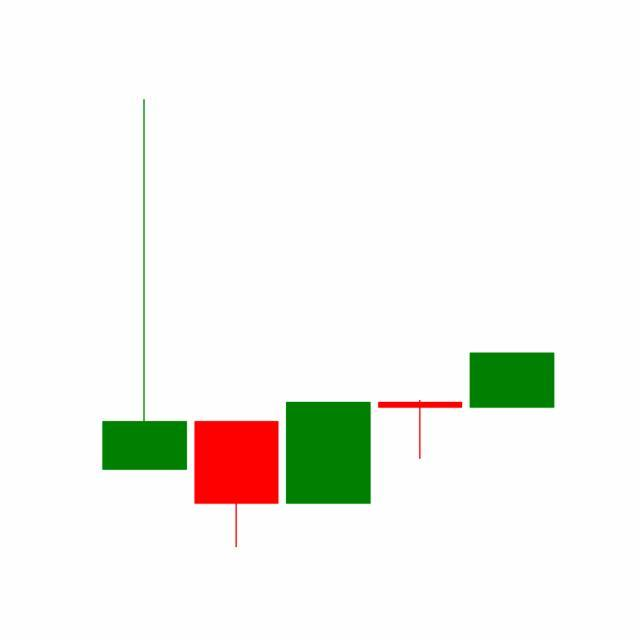Marubozu: (466, 352, 559, 409)
